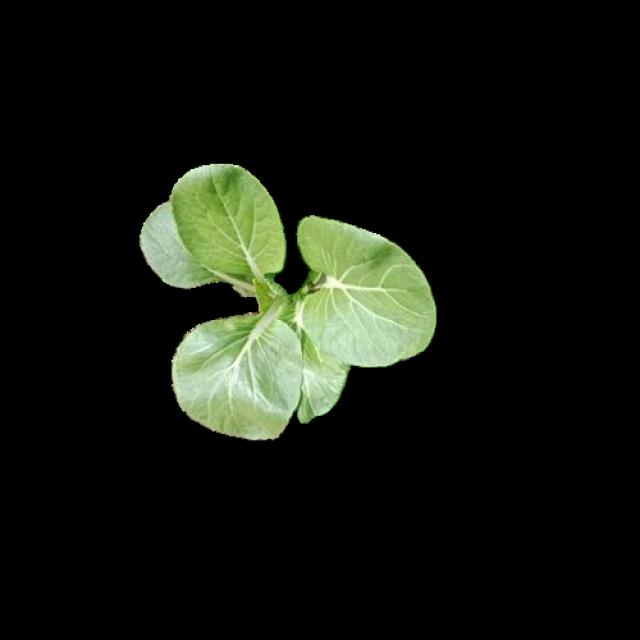healthy: (138, 162, 434, 436)
not-mature: (141, 164, 436, 439)
